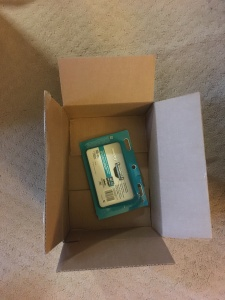innerbox: (61, 106, 162, 238)
outerbox: (44, 57, 212, 268)
product: (81, 130, 146, 218)
